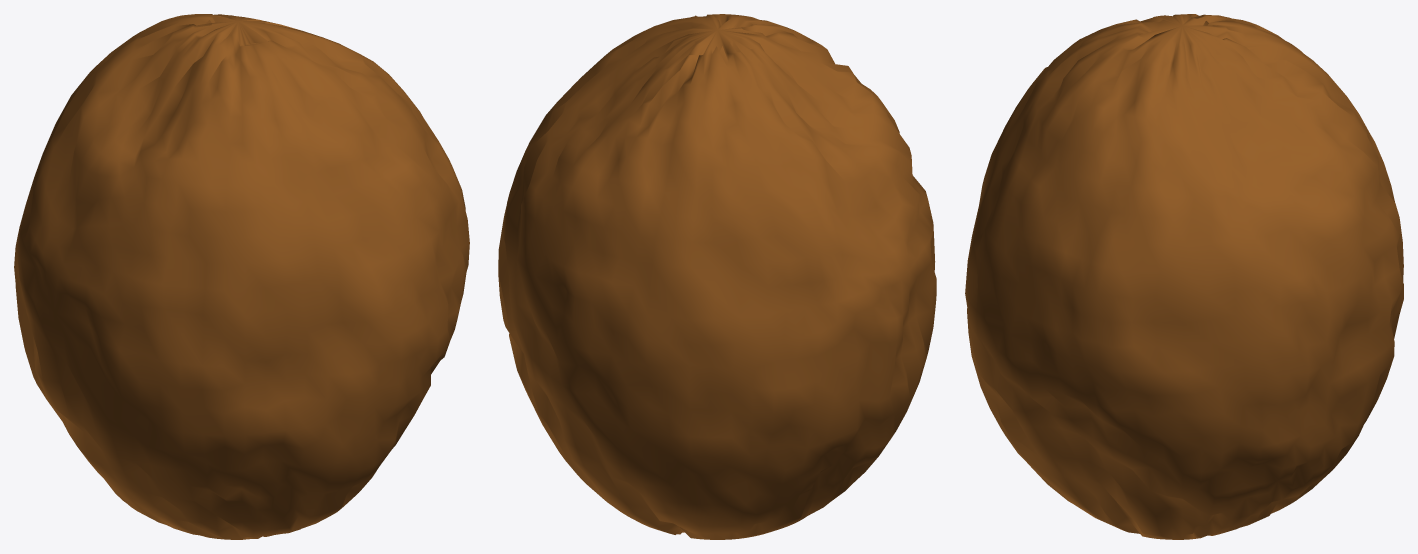
Rendered from Seed_Brown.glb.
3 renders of one model, left to right at view 1: azimuth 30°, elevation 25°; view 2: azimuth 150°, elevation 25°; view 3: azimuth 270°, elevation 25°, orthographic.
Parts seen in each view (by area): view 1: Sphere.001; view 2: Sphere.001; view 3: Sphere.001.
Boxes of the visible parts, <box> form: Sphere.001: <box>14,14,469,539</box>; Sphere.001: <box>498,14,936,539</box>; Sphere.001: <box>965,14,1403,539</box>.
Size of the model in its own units: 0.6283 by 0.7722 by 0.6155.
